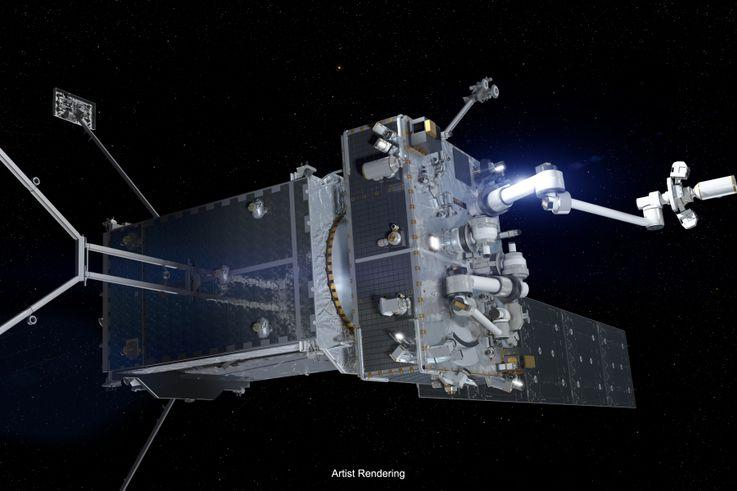antenna: (50, 85, 164, 222)
body: (100, 115, 523, 400)
solar: (415, 295, 638, 412)
